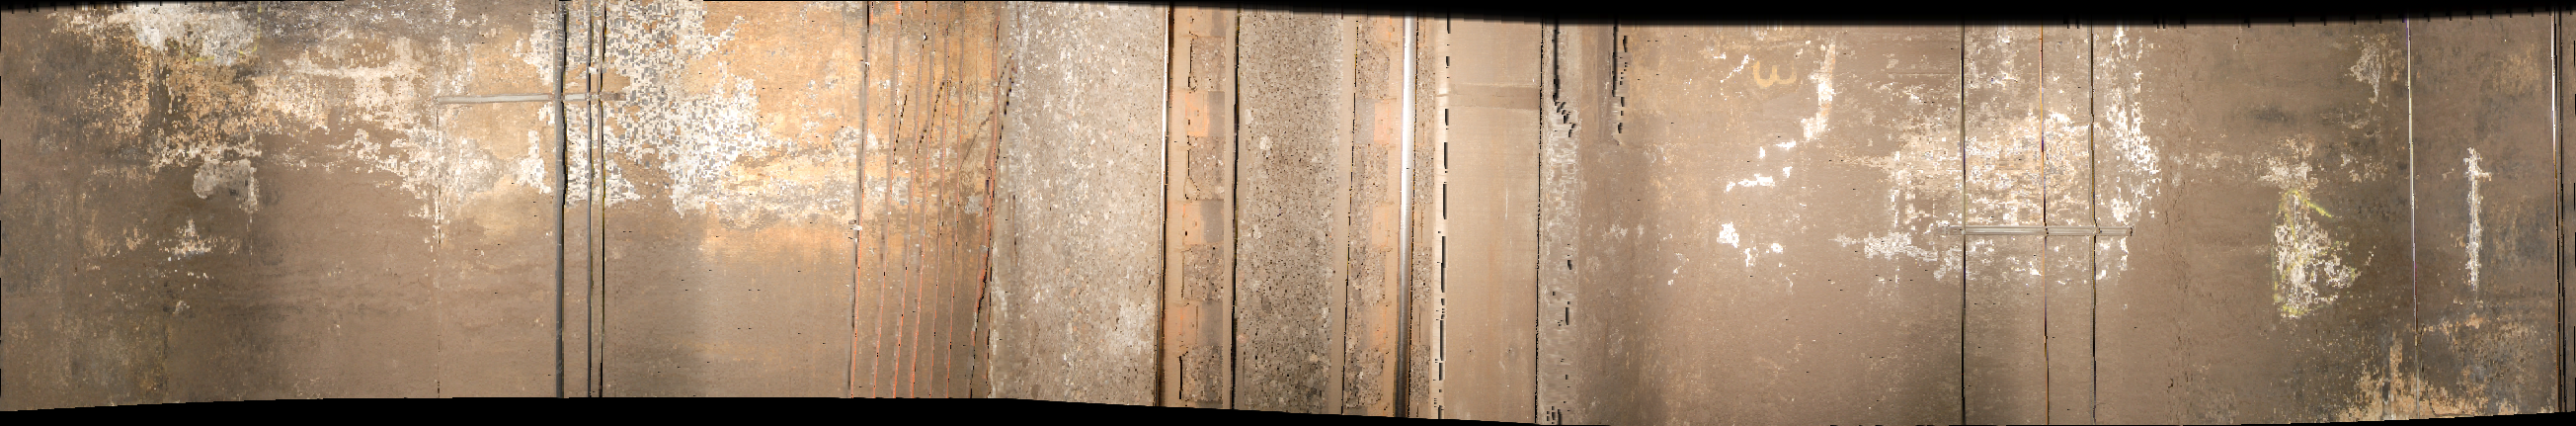pipes: (545, 2, 621, 421), (2400, 8, 2433, 426), (1948, 21, 1980, 426), (2032, 26, 2057, 426), (2085, 21, 2108, 426), (1943, 229, 2144, 243)
tracks: (1005, 7, 1556, 426)
